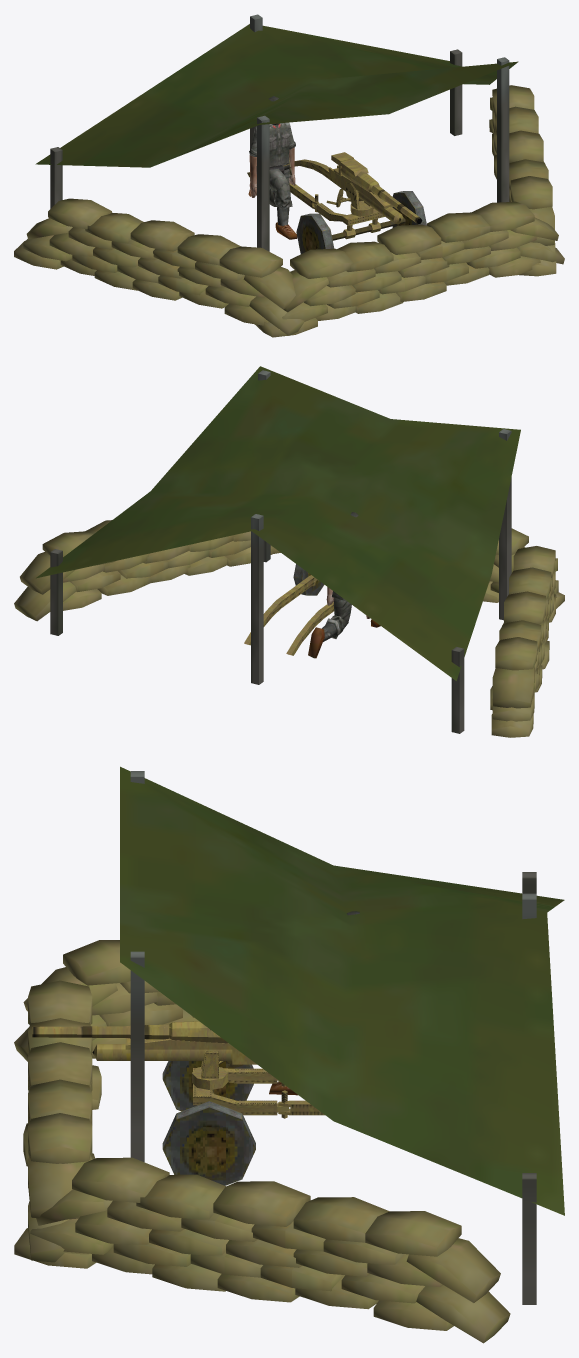
Rendered from ITACannone47_Stationary.dae.
3 renders of one model, top to bottom at view 1: azimuth 30°, elevation 25°; view 2: azimuth 150°, elevation 25°; view 3: azimuth 270°, elevation 25°, orthographic. The views are drawn at different scales.
Visible parts, largest first — view 1: base, wheels, sleeve, torso1, barrel, carriage, turret, rleg1; view 2: base, trail2, trail1; view 3: base, wheels, sleeve, carriage, barrel, turret.
Part boxes in pixels (left/top/right/bottom): base: left=14, top=14, right=564, bottom=337; wheels: left=296, top=191, right=426, bottom=253; sleeve: left=328, top=165, right=403, bottom=224; torso1: left=256, top=123, right=291, bottom=178; barrel: left=331, top=152, right=422, bottom=224; carriage: left=314, top=194, right=384, bottom=239; turret: left=326, top=182, right=373, bottom=216; rleg1: left=274, top=183, right=292, bottom=225; base: left=14, top=366, right=564, bottom=737; trail2: left=244, top=575, right=316, bottom=645; trail1: left=286, top=602, right=334, bottom=655; base: left=14, top=766, right=564, bottom=1343; wheels: left=162, top=1061, right=255, bottom=1185; sleeve: left=92, top=1021, right=256, bottom=1064; carriage: left=193, top=1068, right=289, bottom=1118; barrel: left=32, top=1024, right=210, bottom=1039; turret: left=192, top=1051, right=243, bottom=1089.
Size of the model in its own units: 51.33 by 30.95 by 18.15.
